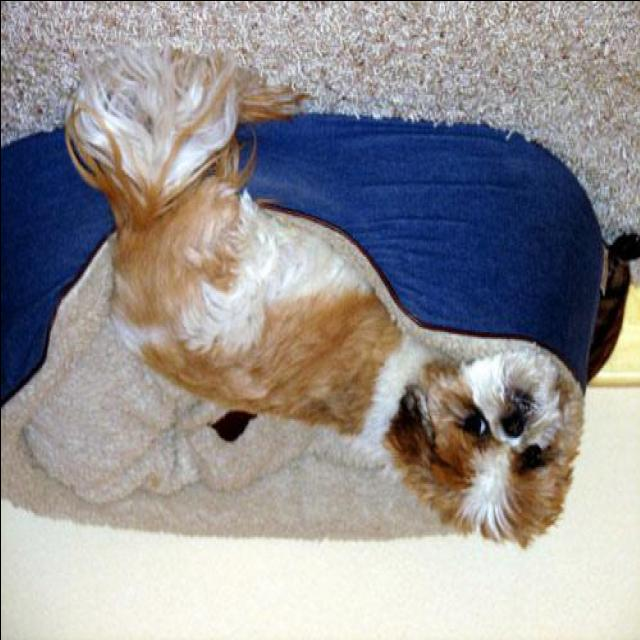shih_tzu: (64, 49, 588, 546)
